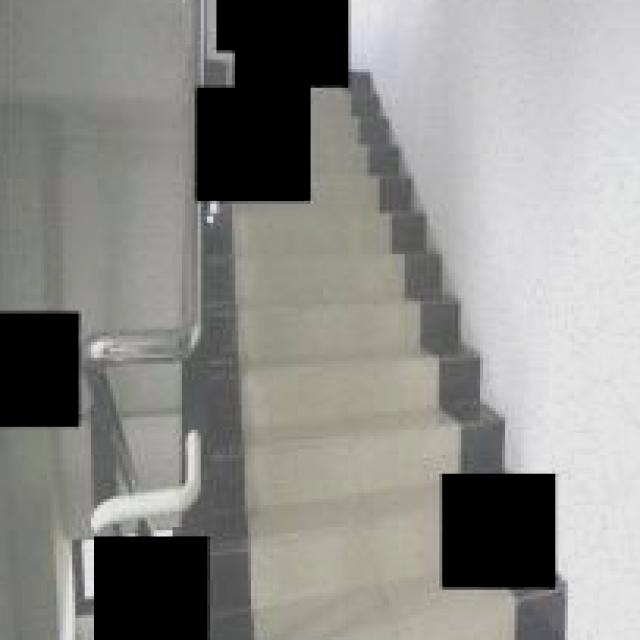upstair: (208, 221, 469, 459)
